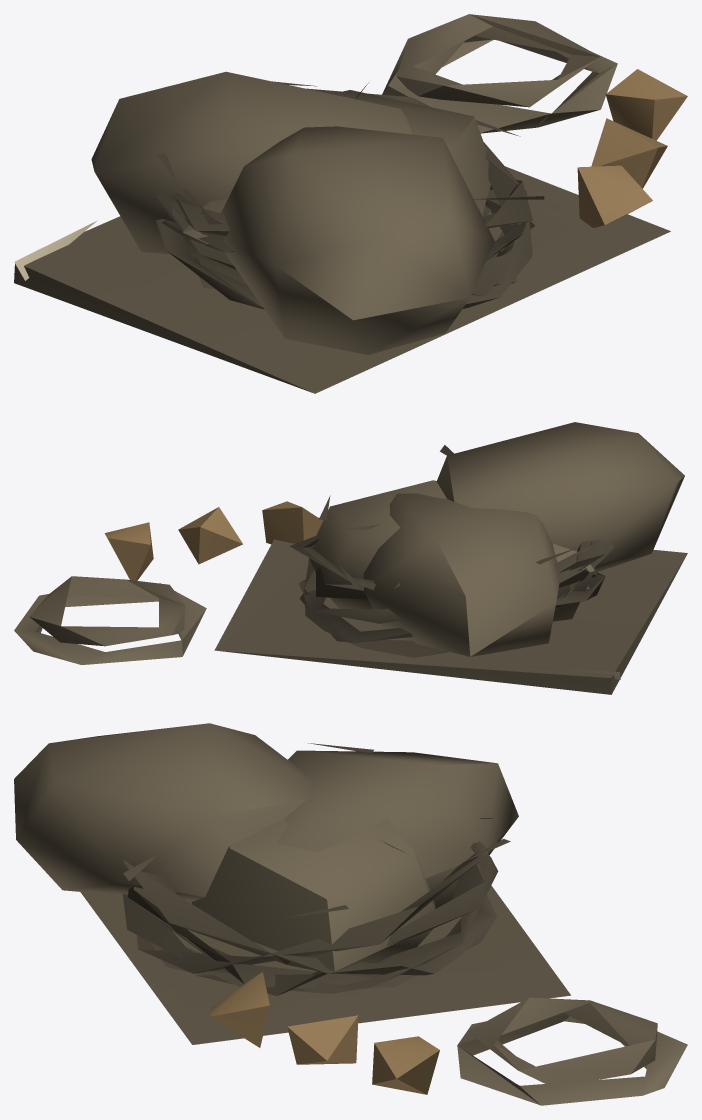
File: net_bundle_a_lod2.glb
3 views of the same model, one above another, from view 1: azimuth 30°, elevation 25°; view 2: azimuth 150°, elevation 25°; view 3: azimuth 270°, elevation 25° (orthographic). The views are drawn at different scales.
Visible parts, largest first — view 1: Surface.001; view 2: Surface.001; view 3: Surface.001.
Part boxes in pixels (bbox=[...]): Surface.001: bbox=[14, 14, 687, 393]; Surface.001: bbox=[14, 422, 687, 694]; Surface.001: bbox=[14, 723, 687, 1105].
Size of the model in its own units: 2.26 by 0.6185 by 2.08.
